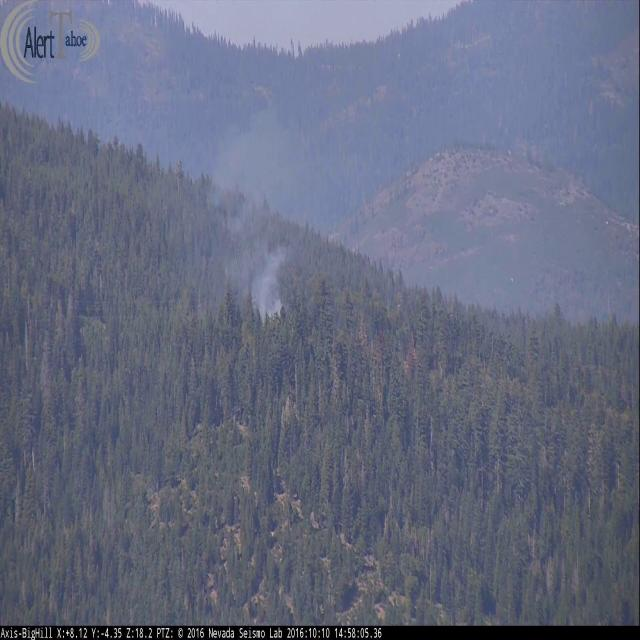smoke: (204, 86, 303, 323)
